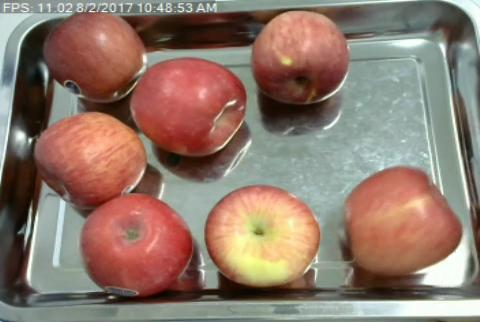apple: (343, 165, 463, 276), (80, 192, 193, 295), (205, 185, 321, 284), (131, 57, 247, 155), (34, 111, 146, 206), (251, 9, 352, 104), (41, 15, 146, 102)
